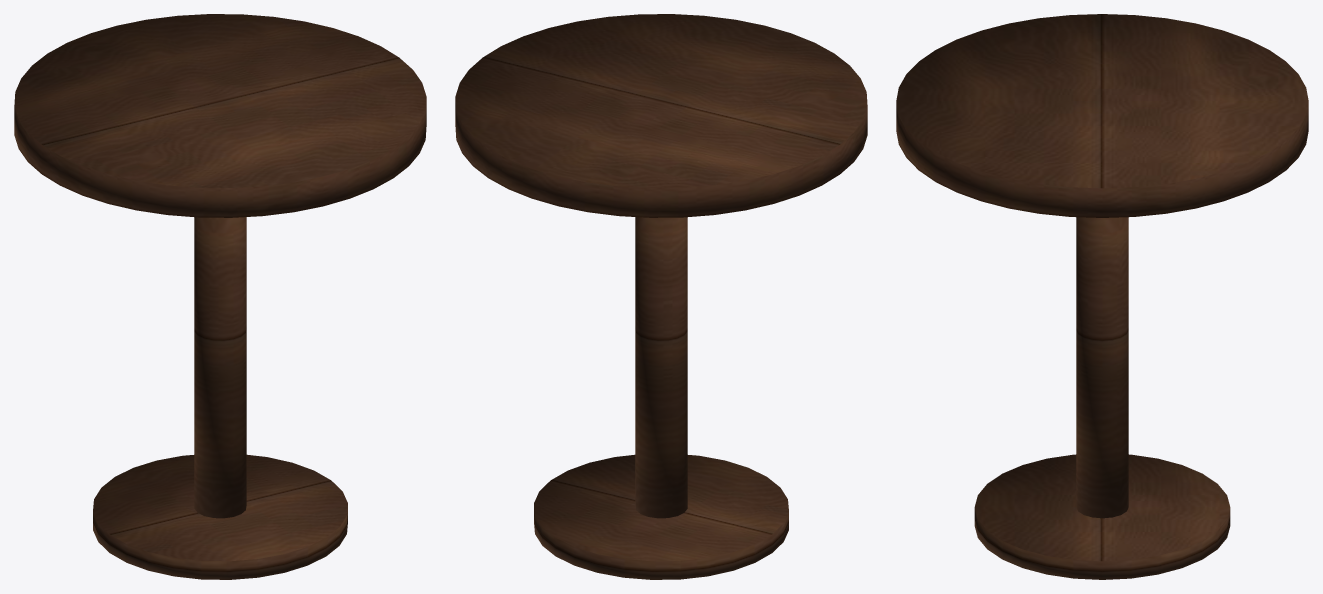
The model's file is master_side_table.glb.
3 views of the same model, side by side, from view 1: azimuth 30°, elevation 25°; view 2: azimuth 150°, elevation 25°; view 3: azimuth 270°, elevation 25° (orthographic).
Parts seen in each view (by area): view 1: master_side_table; view 2: master_side_table; view 3: master_side_table.
Boxes of the visible parts, x1,y1,x2,y2 form: master_side_table: (14, 14, 426, 579); master_side_table: (455, 14, 867, 579); master_side_table: (896, 14, 1308, 579).
Bounding box in the file's own units: 0.44 × 0.5 × 0.44.
1 material, 1 textured.
